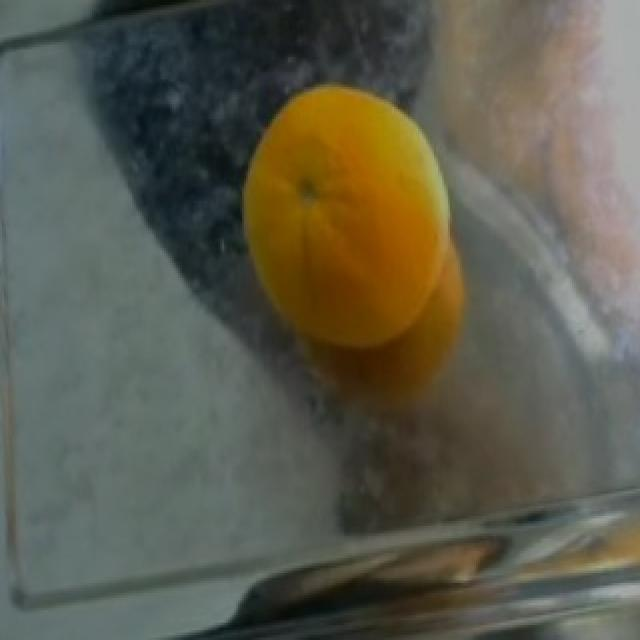Fruit: (220, 59, 478, 390)
